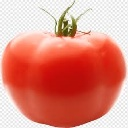tomato: (2, 29, 127, 127)
